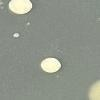white: (6, 0, 33, 18), (39, 56, 63, 76), (84, 76, 100, 100), (8, 30, 25, 41), (24, 20, 33, 28)
